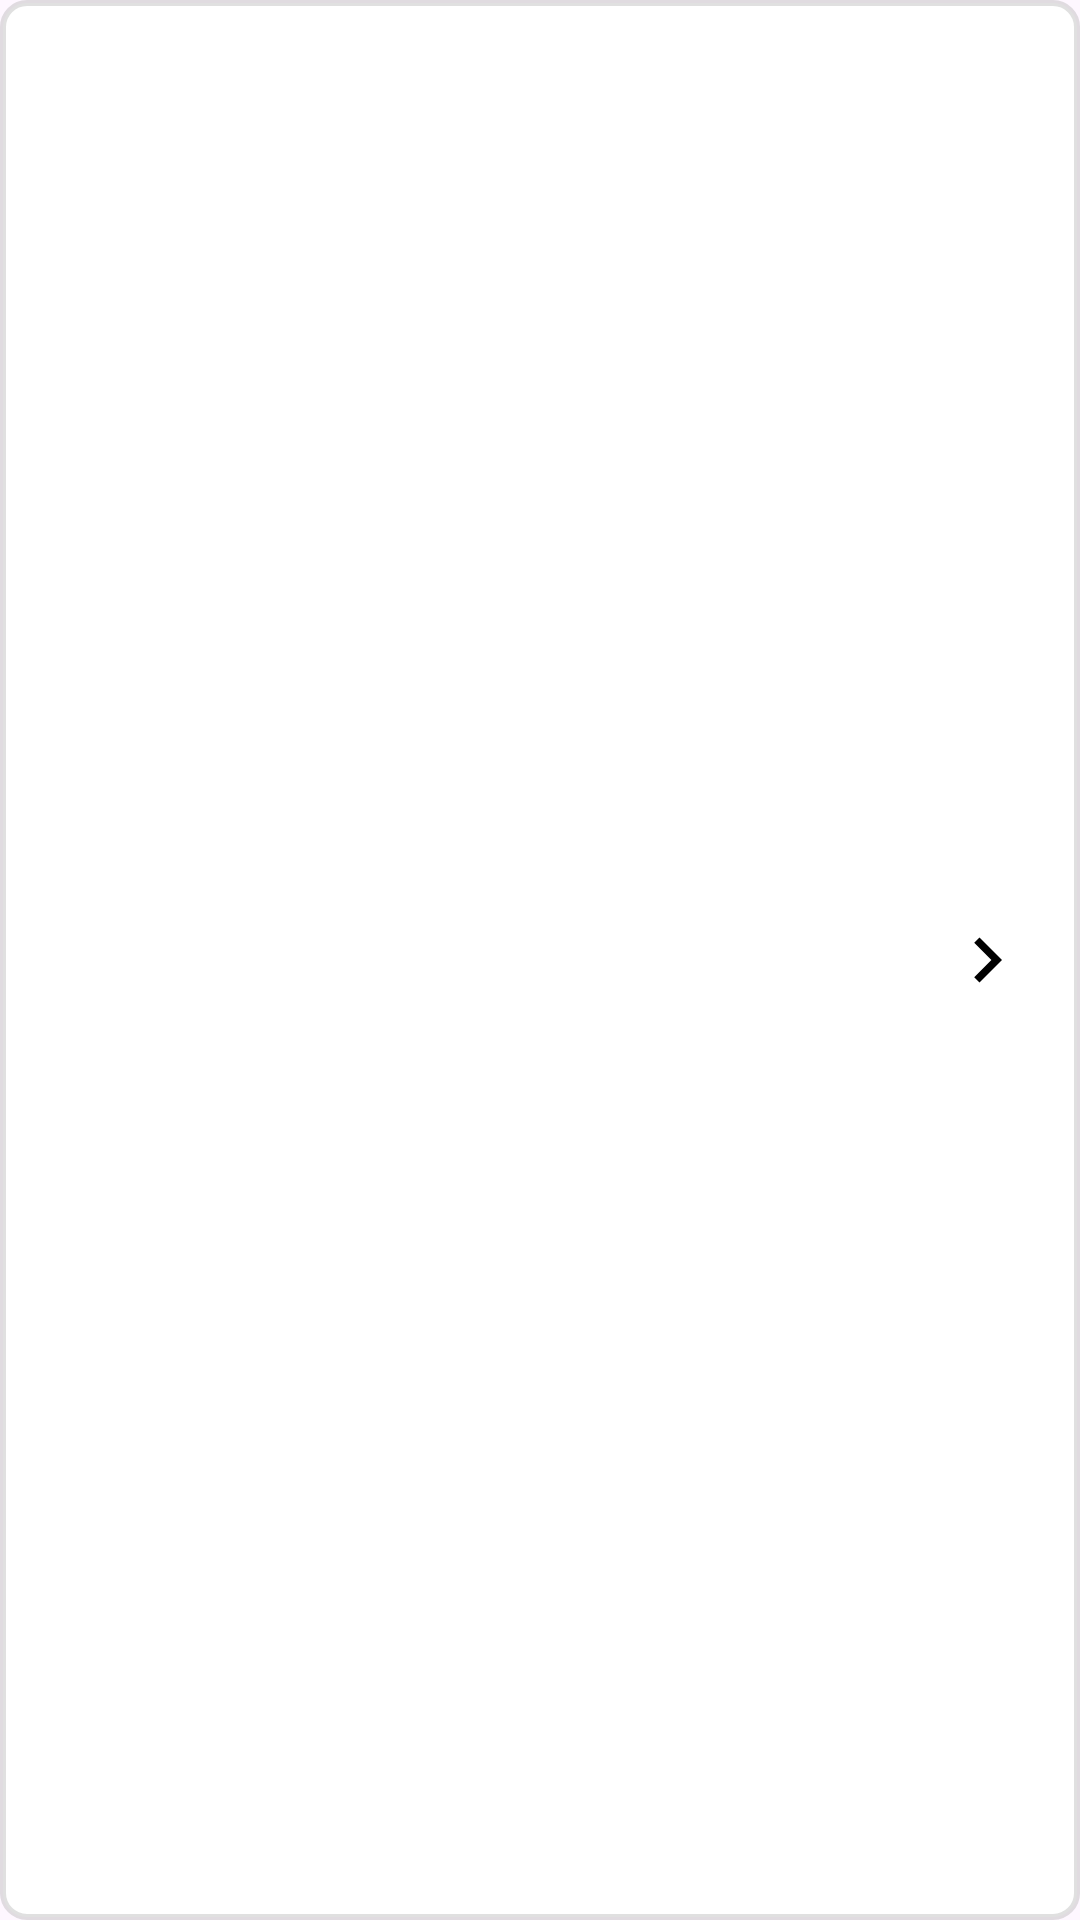

Named icons in this screenshot (1080w x 1920h) and their bounding boxes, (x1,y1,x2,y2):
arrow right: (974,937,1002,983)
